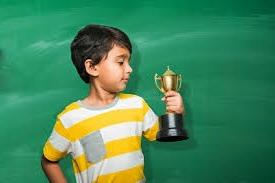Human: (36, 17, 189, 183)
